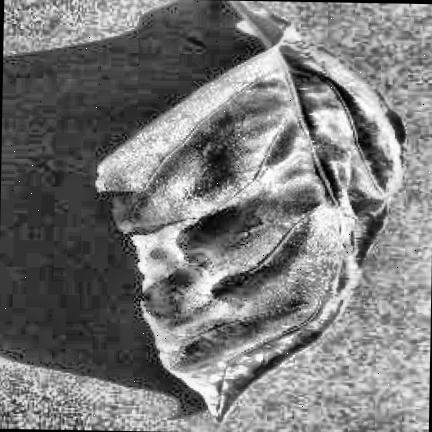leaf: (98, 0, 405, 417)
